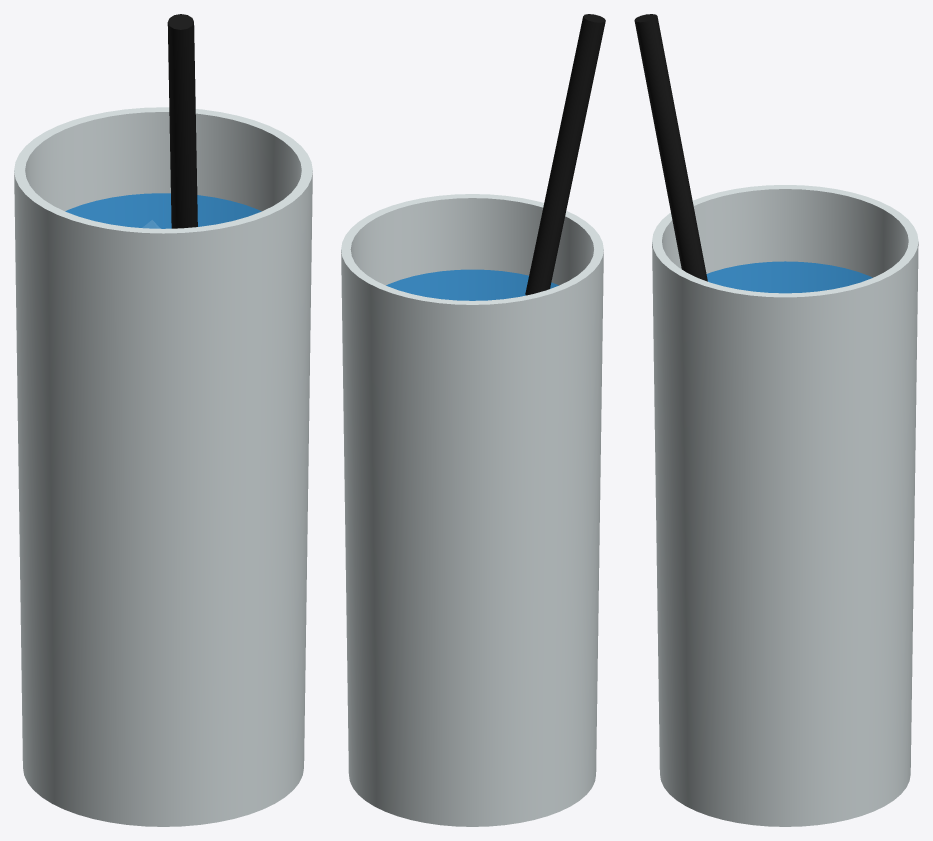
File: long_drink-azul.glb
3 renders of one model, left to right at view 1: azimuth 30°, elevation 25°; view 2: azimuth 150°, elevation 25°; view 3: azimuth 270°, elevation 25°, orthographic. The views are drawn at different scales.
Visible parts, largest first — view 1: long_drink-azul; view 2: long_drink-azul; view 3: long_drink-azul.
Boxes of the visible parts, x1,y1,x2,y2 form: long_drink-azul: (14, 14, 312, 826); long_drink-azul: (341, 14, 605, 826); long_drink-azul: (634, 14, 918, 826).
Bounding box in the file's own units: 0.068 × 0.206 × 0.0725.
